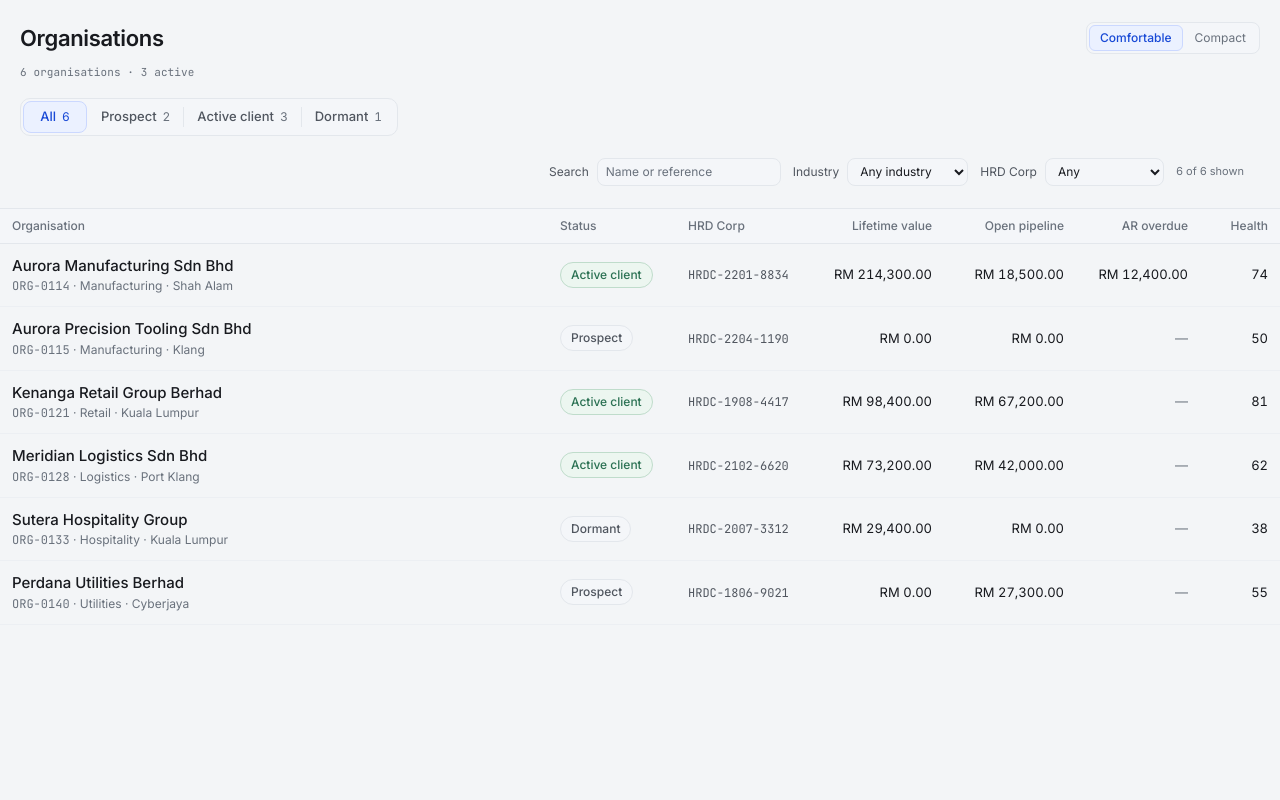
M04 · organisation directory › narrows to a status through the tab group and keeps the counts honest
Expected: the text "Aurora Manufacturing Sdn Bhd" is shown, [12,256,234,274]
Click the tab "Dormant 1" at (348, 116), box [302,100,395,132]
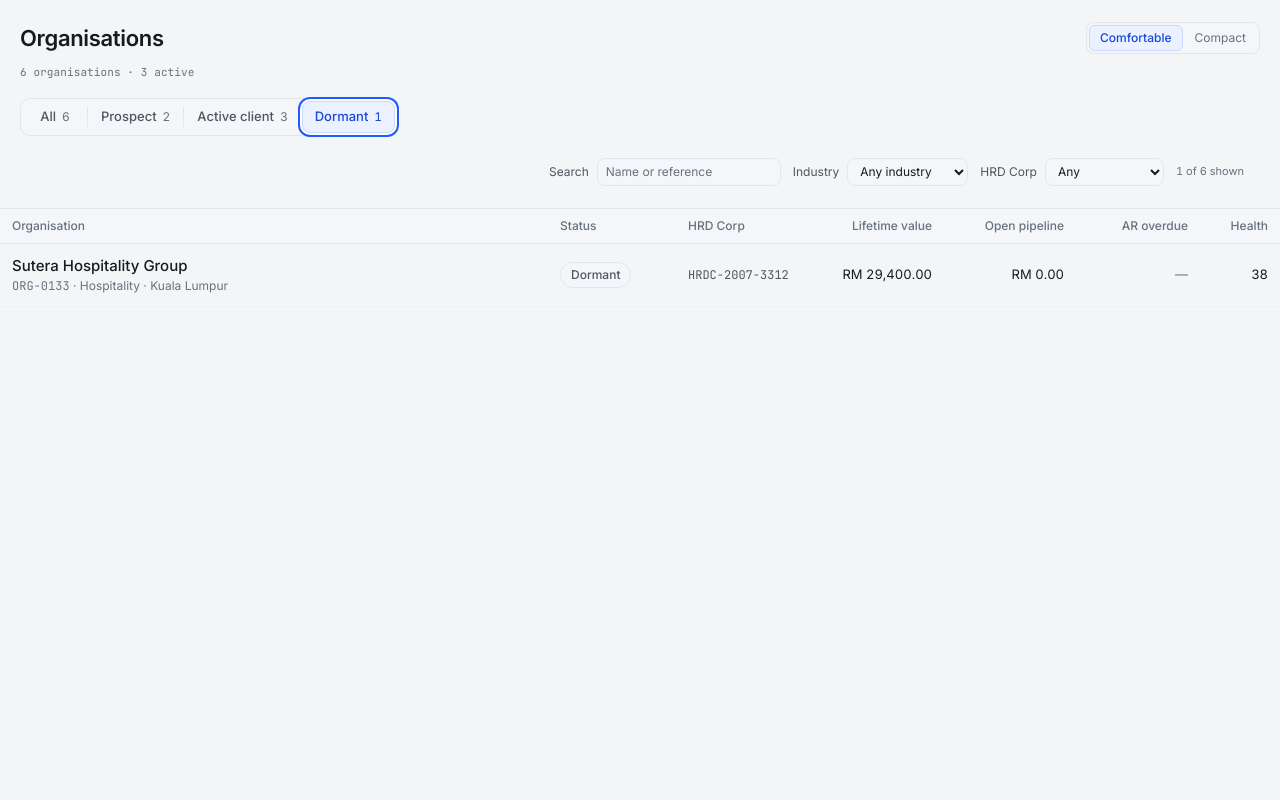
Expected: the text "Sutera Hospitality Group" is shown, [12,256,188,274]
Expected: the text "Aurora Manufacturing Sdn Bhd" is gone
